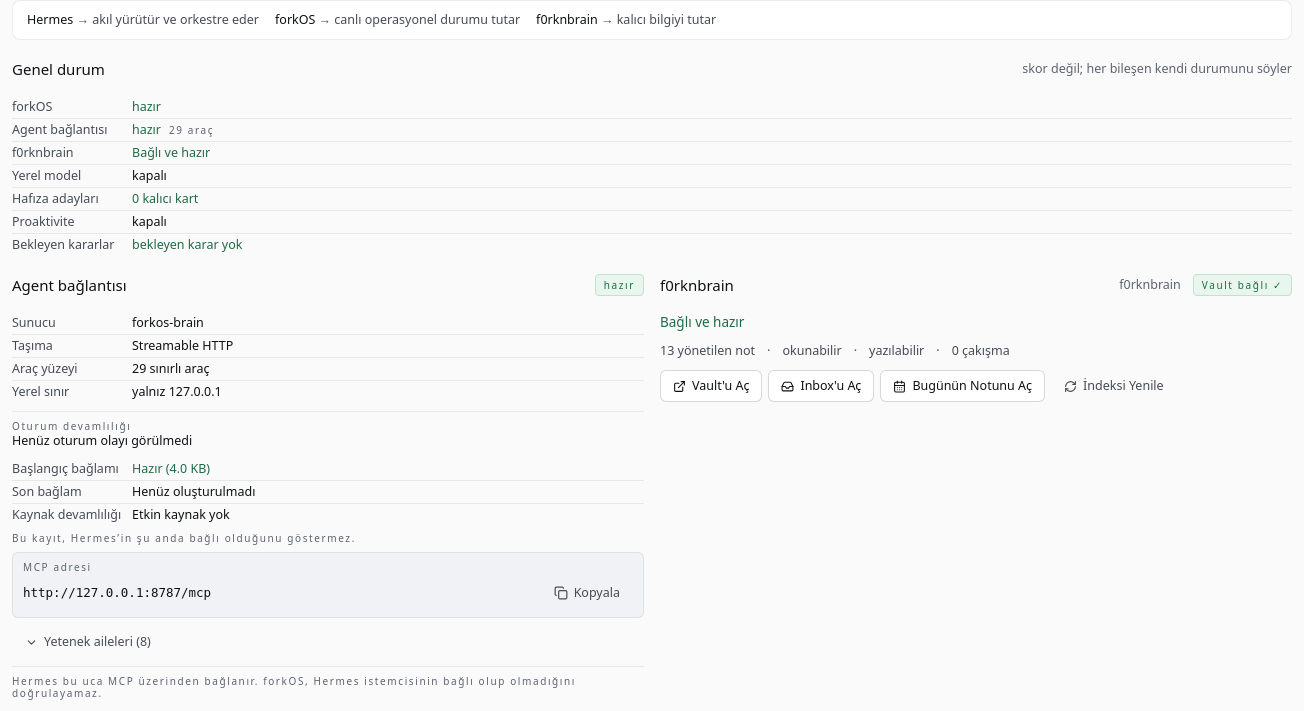
it: Agent bağlantısı kartı › yetenek ailelerini istendiğinde sayılarıyla listeler
The image size is (1304, 711).
Expected: the heading "Genel durum" is shown, [12,59,105,79]
Click the button "Yetenek aileleri (8)".
click(88, 642)  # box [12,626,164,658]
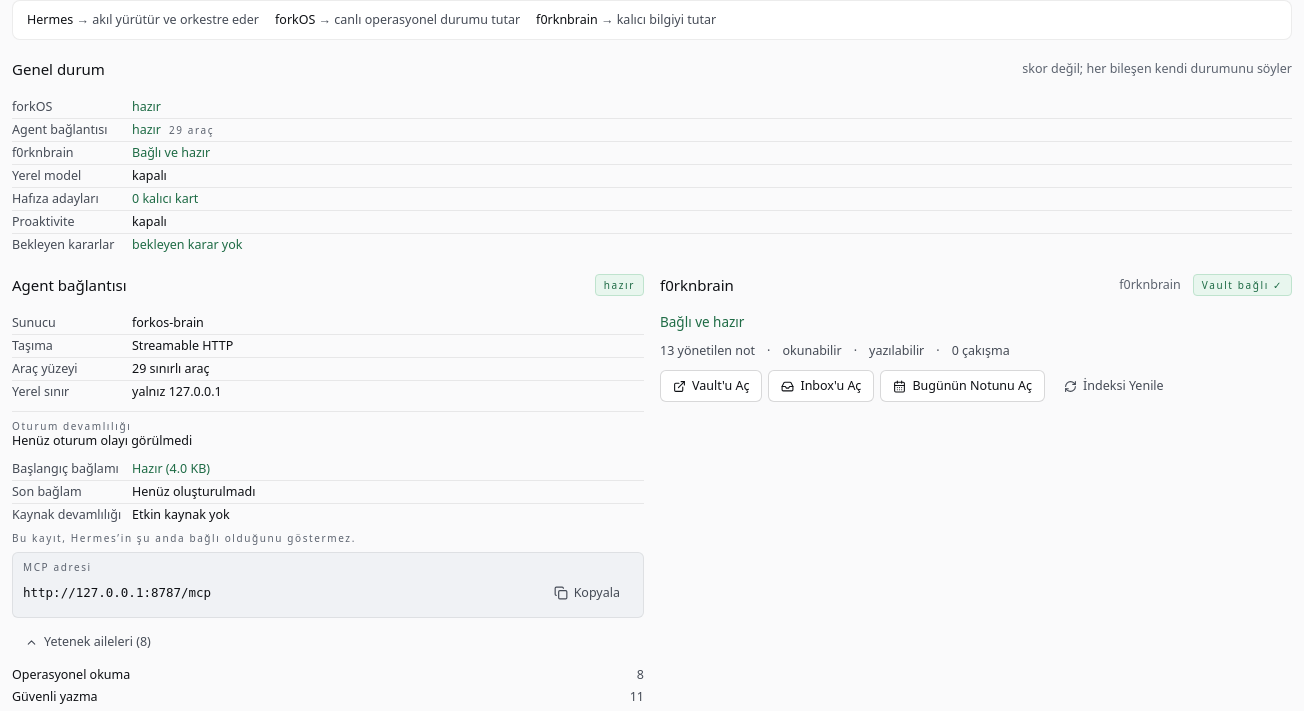
Result: the text "Operasyonel okuma" is shown at [12,666,130,684]
Result: the text "Güvenli yazma" is shown at [12,688,98,706]
Result: the text "11" is shown at [630,688,644,706]
